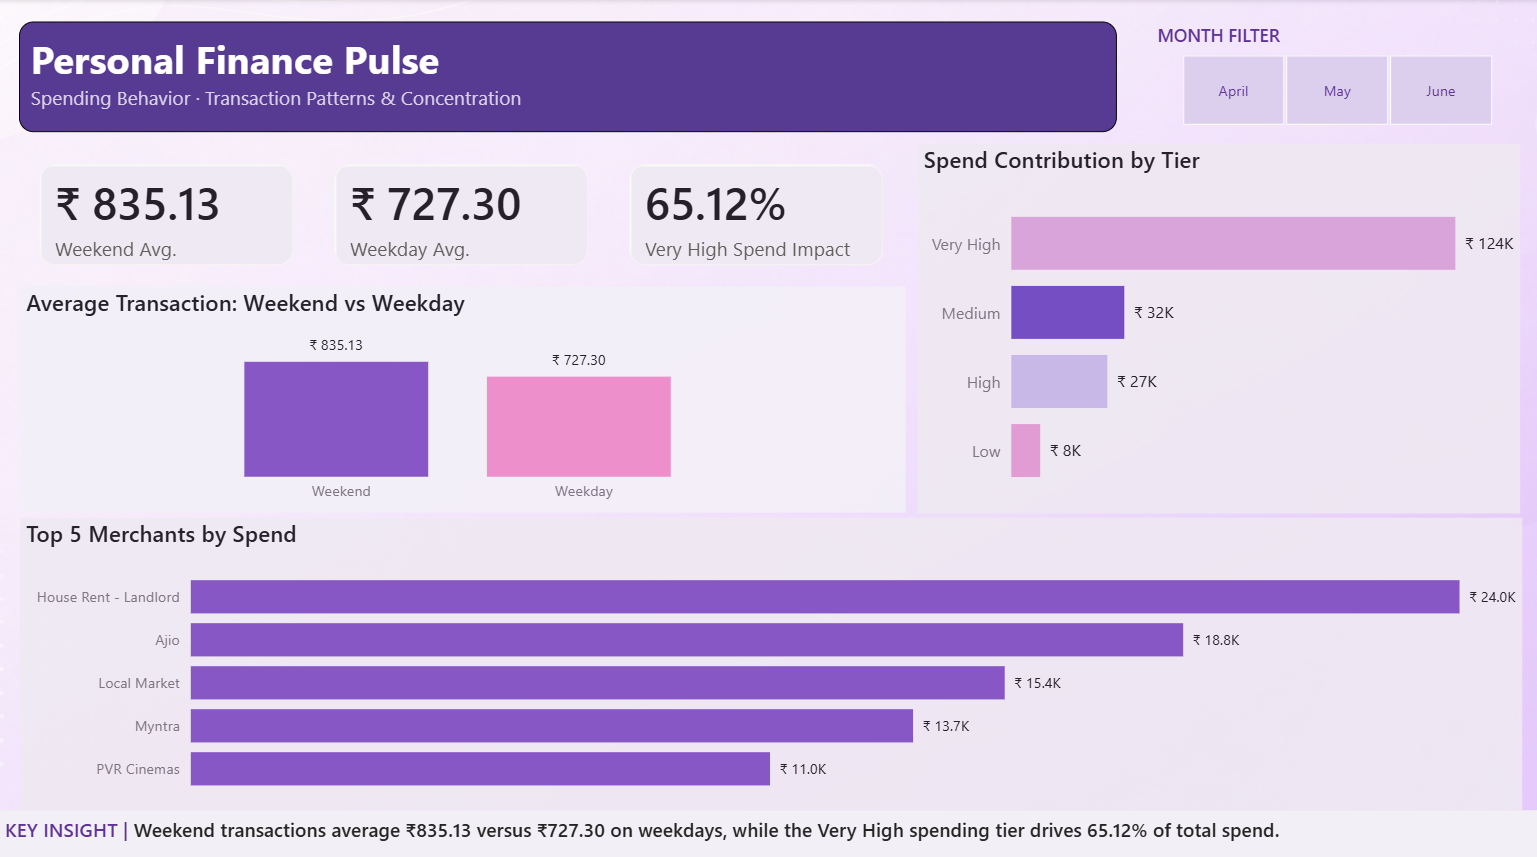

Layout of this report page (visuals, bound fields, positions):
{"tool":"powerbi","page":{"name":"Spending Behavior","canvas":[1280,720],"ordinal":1},"visuals":[{"type":"cardVisual","fields":{"Data":["finpulse transactions.Weekend Avg Transaction"]},"box":[16.3,120.9,245.3,118.6],"z":0},{"type":"cardVisual","fields":{"Data":["finpulse transactions.Weekday Avg Transaction"]},"box":[261.6,120.9,245.3,118.6],"z":1000},{"type":"cardVisual","fields":{"Data":["finpulse transactions.Very High Spend %"]},"box":[507,120.9,245.3,118.6],"z":2000},{"type":"textbox","box":[16.3,18.6,912.8,91.9],"z":3000},{"type":"clusteredColumnChart","title":"Average Transaction: Weekend vs Weekday","fields":{"Category":["finpulse transactions.Day Type"],"Y":["finpulse transactions.Average Transaction"]},"box":[17.4,239.5,736,188.4],"z":4000},{"type":"clusteredBarChart","title":"Spend Contribution by Tier","fields":{"Category":["finpulse transactions.spending_tier"],"Y":["finpulse transactions.Total Spend"]},"box":[764,120.9,501.2,307],"z":5000},{"type":"clusteredBarChart","title":"Top 5 Merchants by Spend","fields":{"Category":["finpulse transactions.merchant"],"Y":["finpulse transactions.Total Spend"]},"box":[17.4,431.4,1248.8,243],"z":6000},{"type":"slicer","title":"MONTH FILTER","fields":{"Values":["Calendar.Month"]},"box":[958.1,19.8,307,91.9],"z":7000},{"type":"textbox","box":[0,674.4,1280.2,45.3],"z":7001}]}

Visuals, with their boxes in screenshot pixels (x1, y1, x2, y2), scaled from the page's 1280x720 canvas onto the 1537x857 screenshot:
cardVisual - finpulse transactions.Weekend Avg Transaction: [20, 144, 314, 285]
cardVisual - finpulse transactions.Weekday Avg Transaction: [314, 144, 609, 285]
cardVisual - finpulse transactions.Very High Spend %: [609, 144, 903, 285]
textbox: [20, 22, 1116, 132]
"Average Transaction: Weekend vs Weekday" clusteredColumnChart: [21, 285, 905, 509]
"Spend Contribution by Tier" clusteredBarChart: [917, 144, 1519, 509]
"Top 5 Merchants by Spend" clusteredBarChart: [21, 513, 1520, 803]
"MONTH FILTER" slicer: [1150, 24, 1519, 133]
textbox: [0, 803, 1536, 856]
